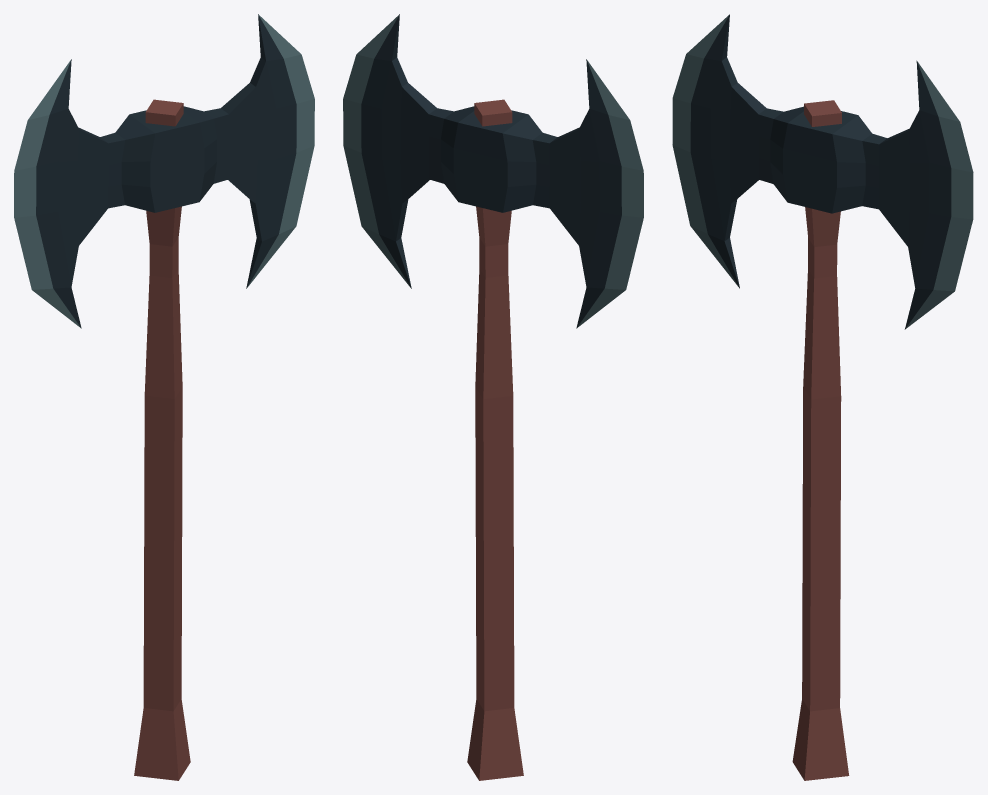
The model's file is bigDoubleAxe.fbx.
3 renders of one model, left to right at view 1: azimuth 30°, elevation 25°; view 2: azimuth 150°, elevation 25°; view 3: azimuth 330°, elevation 25°, orthographic.
Parts seen in each view (by area): view 1: BigDoubleAxe; view 2: BigDoubleAxe; view 3: BigDoubleAxe.
Boxes of the visible parts, <box> form: BigDoubleAxe: <box>14,14,314,780</box>; BigDoubleAxe: <box>343,14,643,780</box>; BigDoubleAxe: <box>672,14,973,780</box>.
Size of the model in its own units: 292 by 679 by 54.92.
